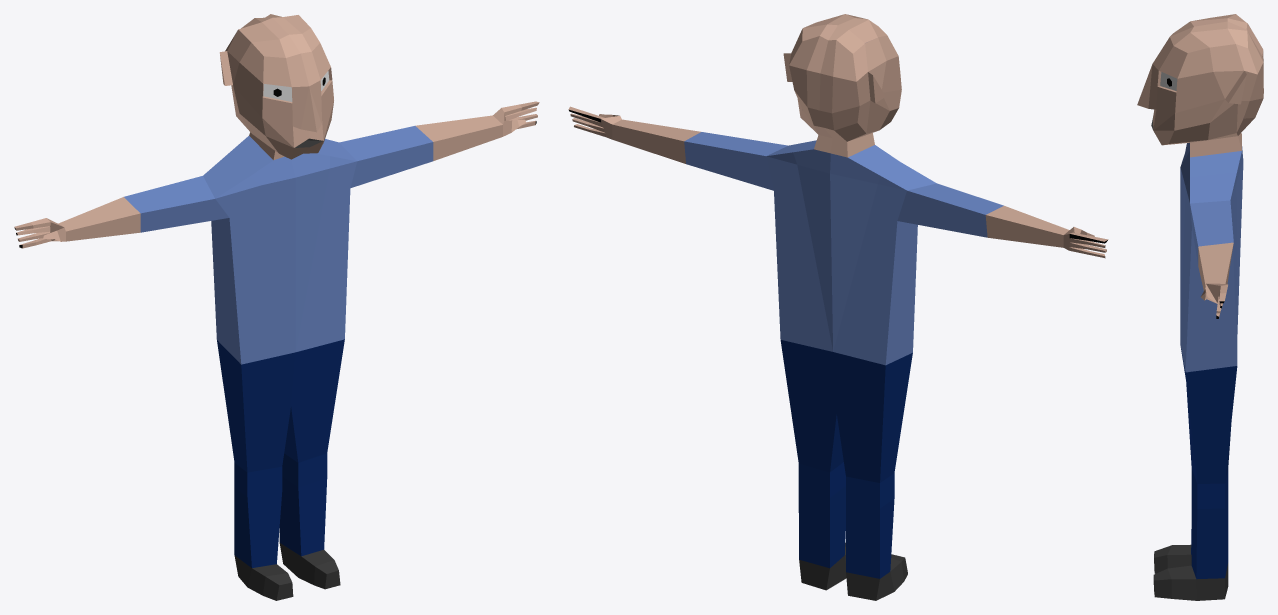
File: Blanko_Human_with_Fingers.fbx
The picture shows the model from 3 angles, left to right: view 1: azimuth 30°, elevation 25°; view 2: azimuth 150°, elevation 25°; view 3: azimuth 270°, elevation 25°; orthographic projection. The views are drawn at different scales.
Parts seen in each view (by area): view 1: Human; view 2: Human; view 3: Human.
Boxes of the visible parts, x1,y1,x2,y2 form: Human: [14, 14, 539, 600]; Human: [568, 14, 1108, 600]; Human: [1137, 14, 1263, 600].
Size of the model in its own units: 990 by 995 by 204.
